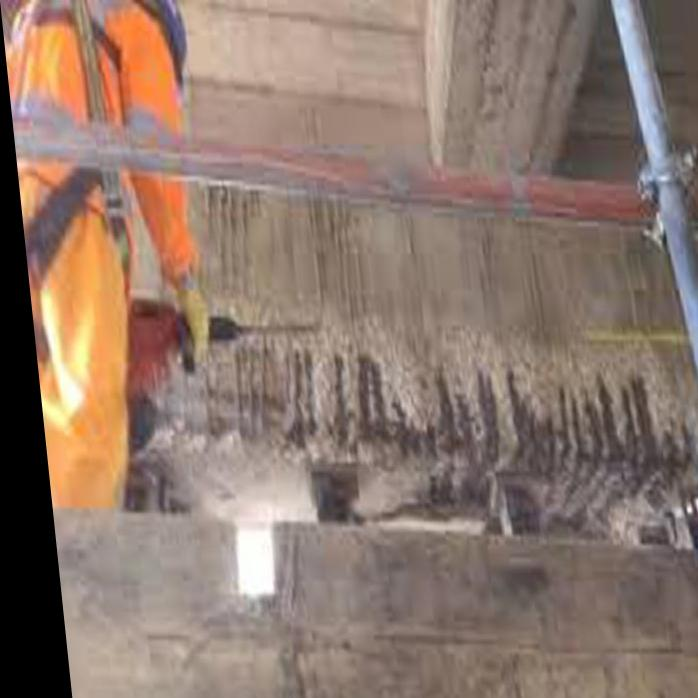damage: (141, 288, 698, 554)
